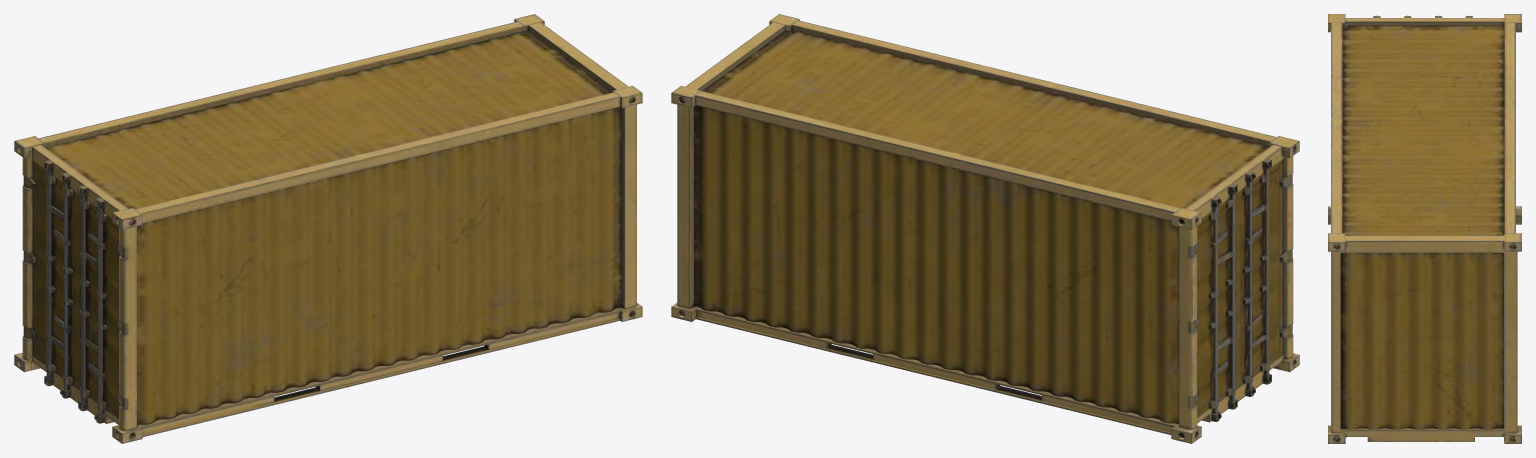
File: shipping-container--1.gltf
3 views of the same model, side by side, from view 1: azimuth 30°, elevation 25°; view 2: azimuth 150°, elevation 25°; view 3: azimuth 270°, elevation 25° (orthographic). The views are drawn at different scales.
Visible parts, largest first — view 1: Cylinder.028; view 2: Cylinder.028; view 3: Cylinder.028.
Boxes of the visible parts, left/top/right/bottom form: Cylinder.028: left=14, top=14, right=642, bottom=443; Cylinder.028: left=671, top=14, right=1299, bottom=443; Cylinder.028: left=1328, top=14, right=1521, bottom=443.
Size of the model in its own units: 6.32 by 2.6 by 2.27.
1 material, 1 textured.
